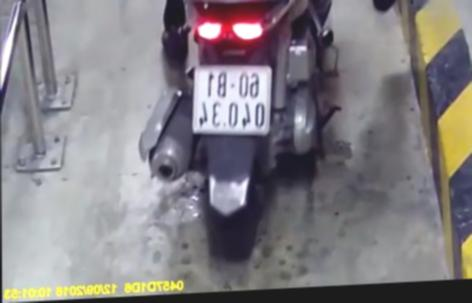License_Plate: (187, 60, 278, 136)
